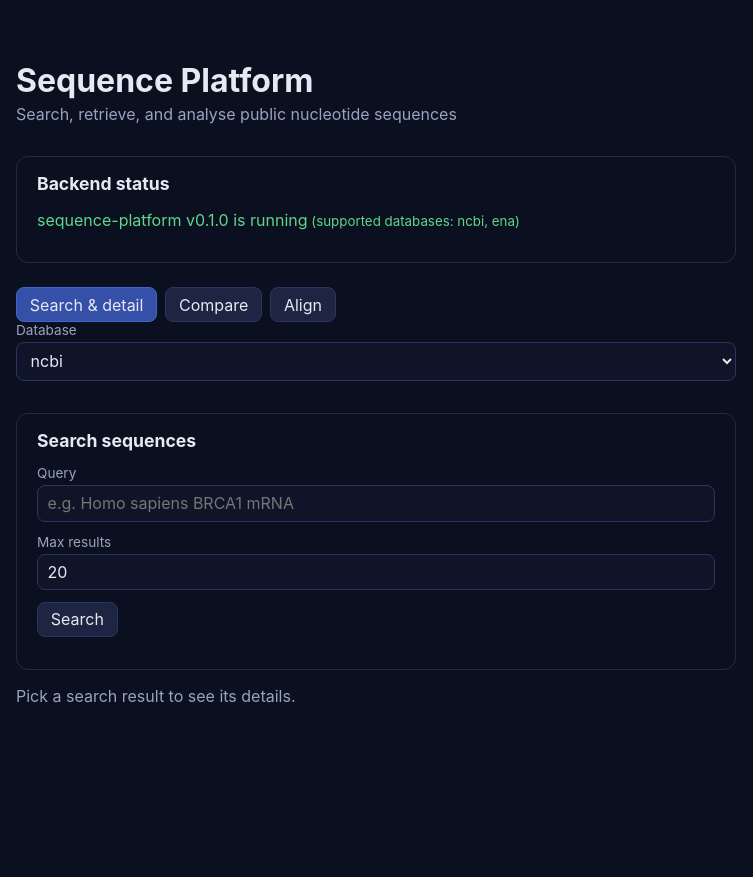
Test: App › runs the search → detail flow end to end
The width and height of the screenshot is (753, 877).
Type "test" into the field labelled "Query".
click(376, 503); type("test")  # box [37,485,715,522]
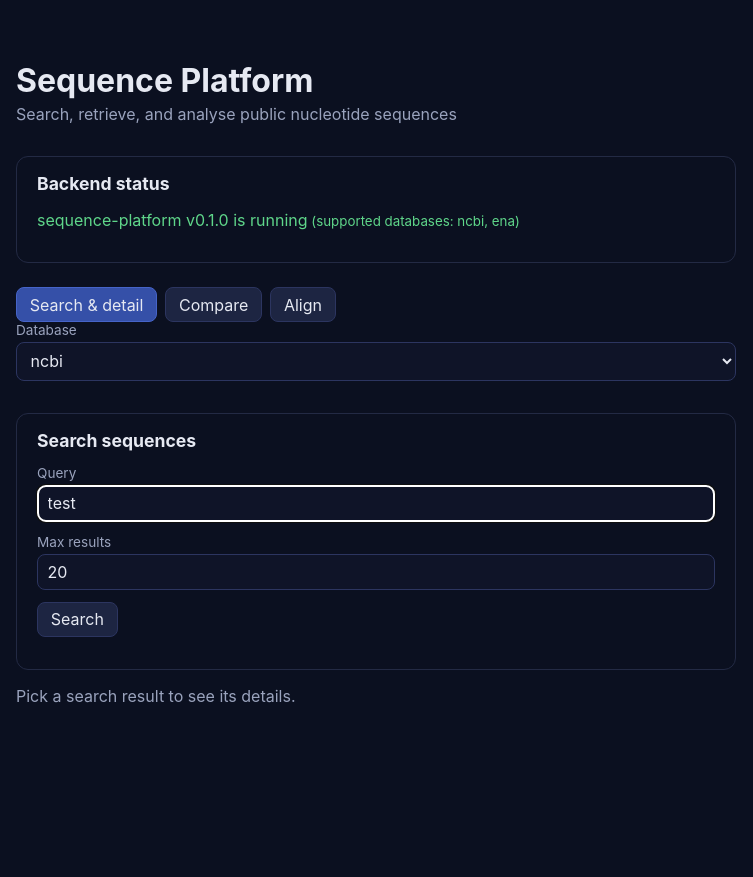
Click the button "Search".
click(77, 619)  # box [37,602,118,637]
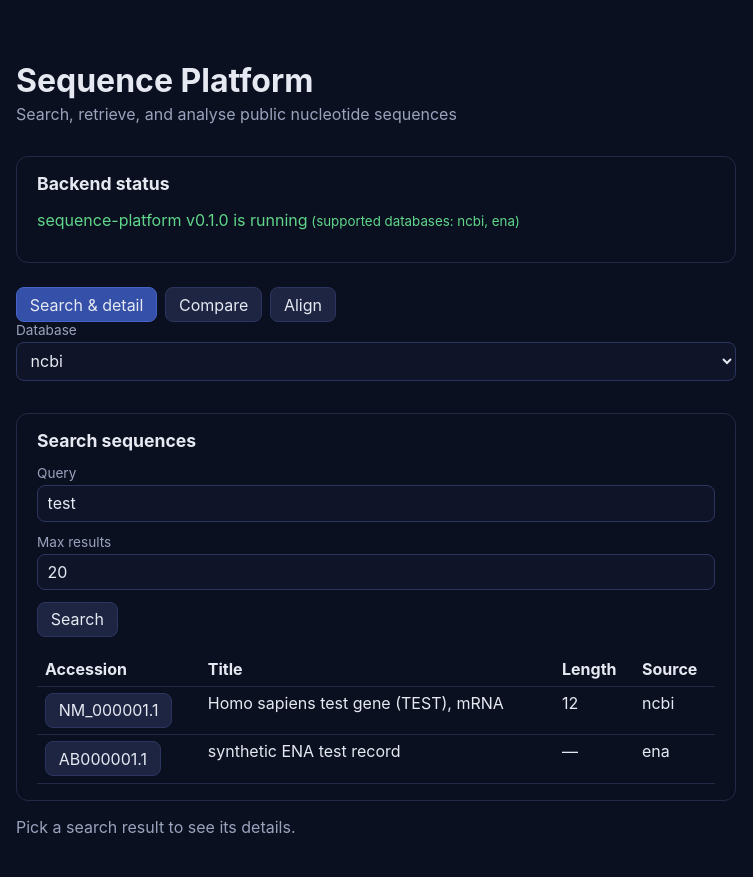
Click the button "NM_000001.1".
click(109, 710)  # box [45,693,172,728]
(page scrolled)
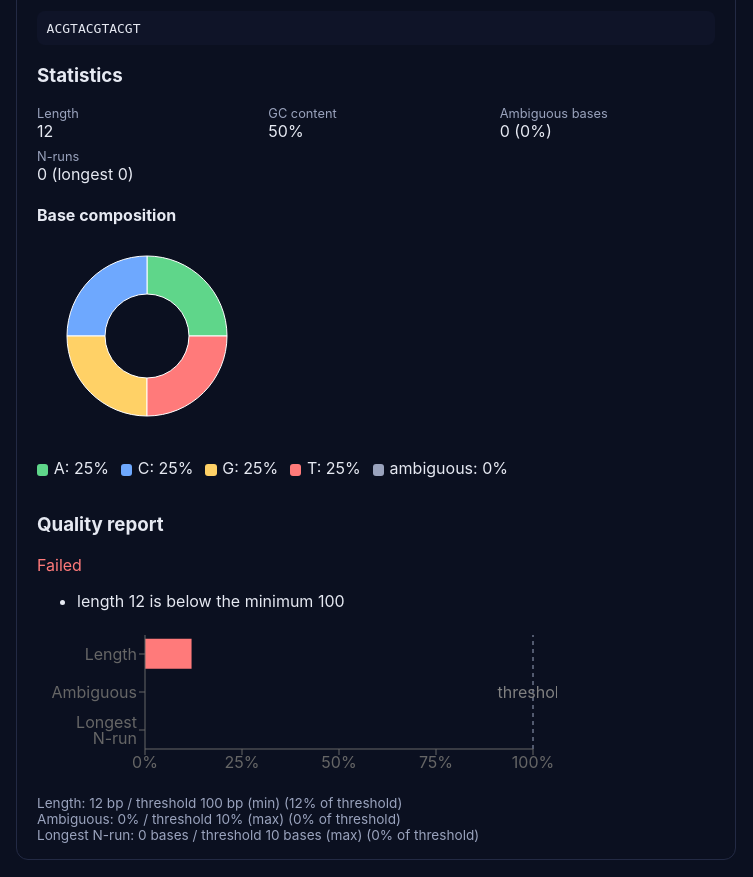
Now the text with test id "sequence-text" reads "ACGTACGTACGT", box [47,21,140,36]
Now the text with test id "quality-status" reads "Failed", box [37,555,82,575]
